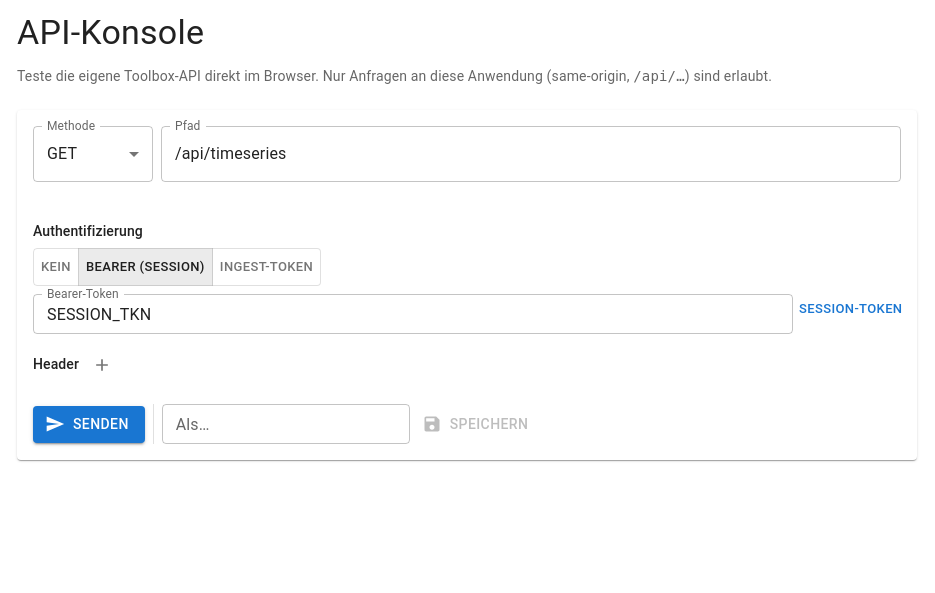
Test: ApiConsolePage › speichert, lädt und löscht einen Request (localStorage, ohne Token)
Type "Zeitreihen-Liste" into the field labelled "Als…" at coordinates (286, 424), box 162,404 -> 410,444
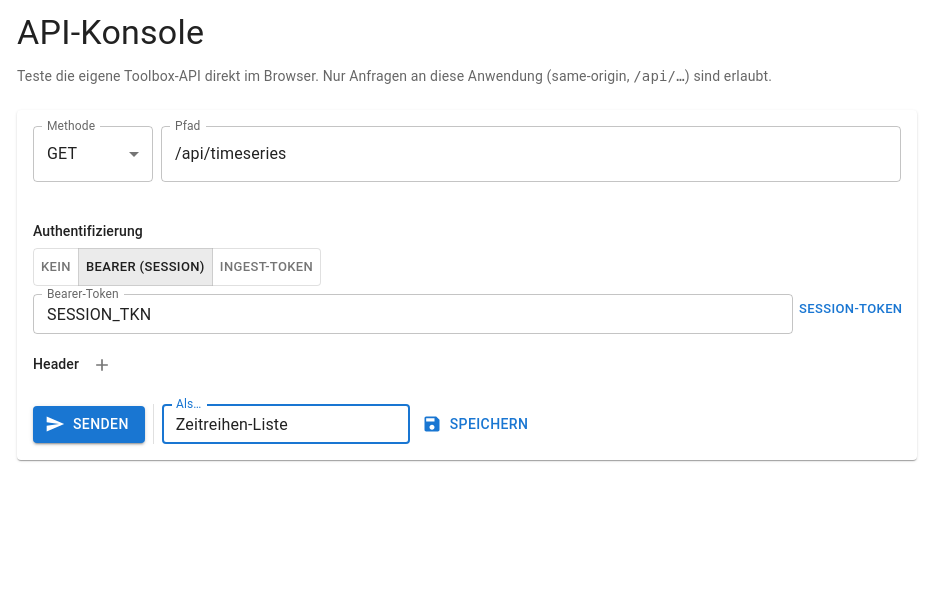
Click the button "Speichern" at coordinates (477, 424), box 418,406 -> 536,443
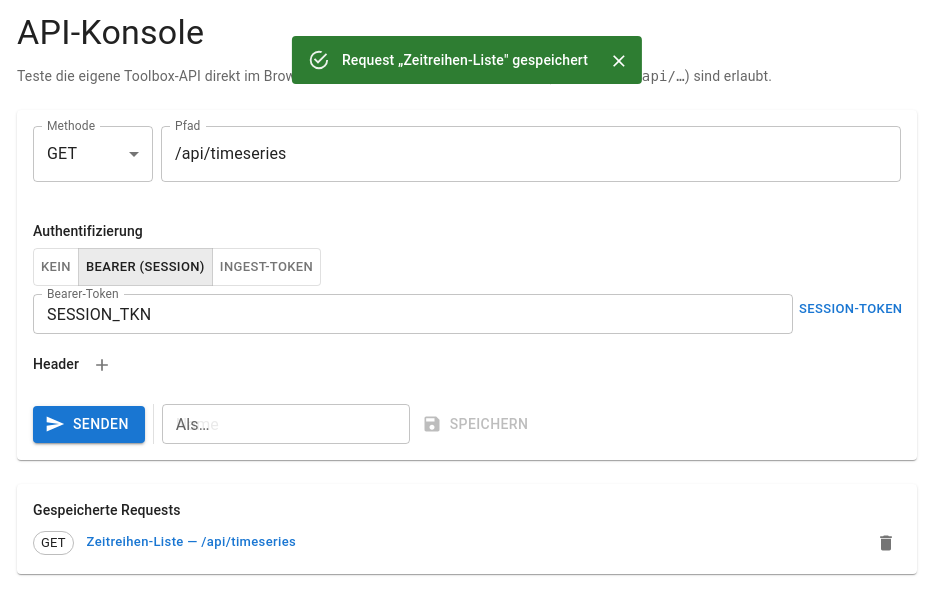
expect the text "Request „Zeitreihen-Liste\" gespeichert" is shown: met, box 342,52 -> 588,68
expect the button "Zeitreihen-Liste — /api/timeseries" is shown: met, box 82,527 -> 863,558
Click the button named "Zeitreihen-Liste löschen" at coordinates (886, 543), box 871,528 -> 901,558
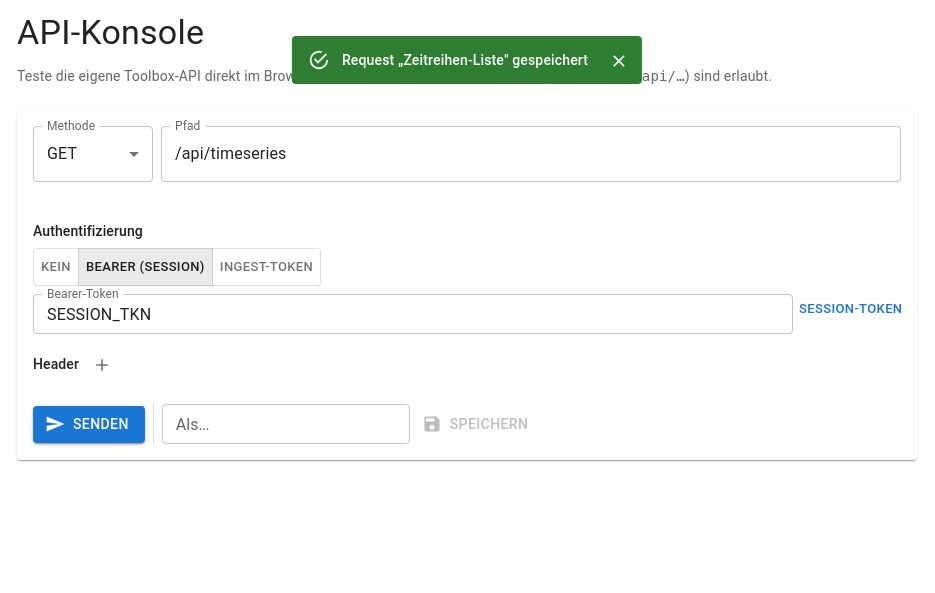
expect the button "Zeitreihen-Liste — " is gone: met
